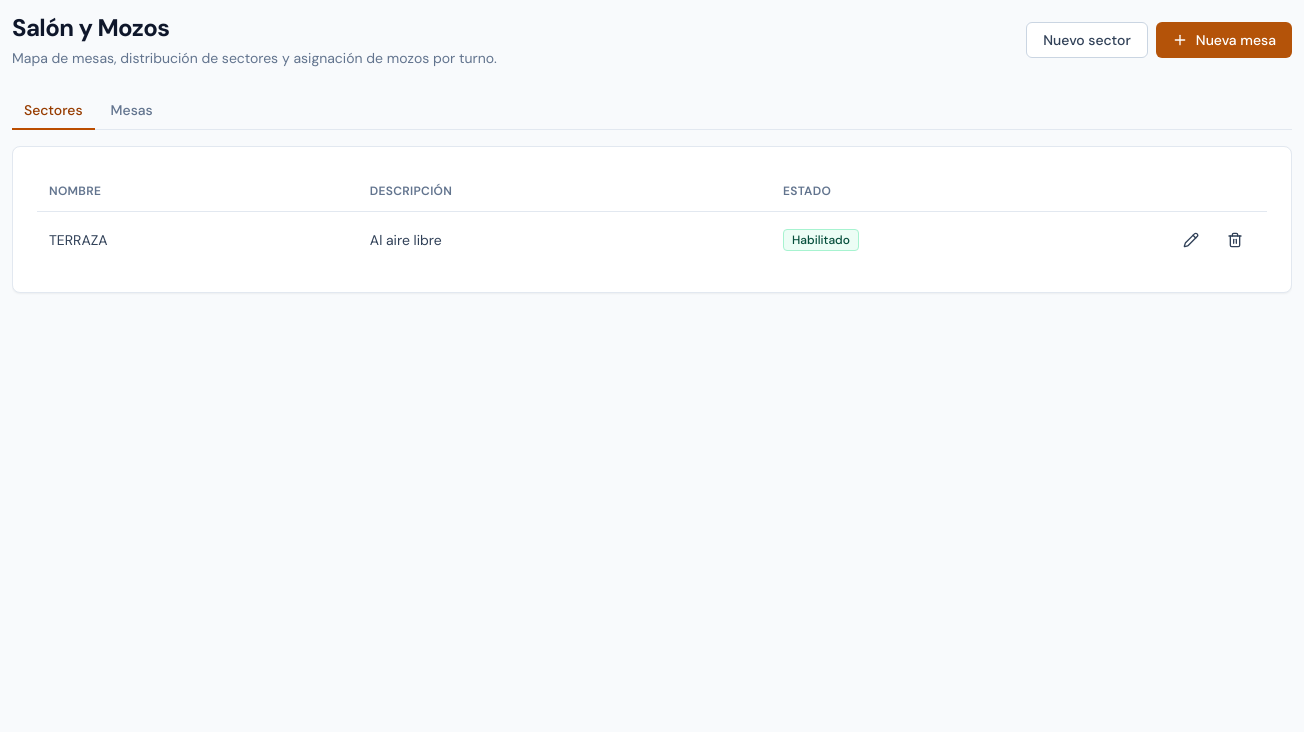
Scenario: SalonPage: baja de sector › elimina el sector con confirmación y recarga el listado (CA 1 de #35)
Click the button named "Eliminar «Terraza»" at (1235, 240), box x1=1215 y1=224 x2=1255 y2=256
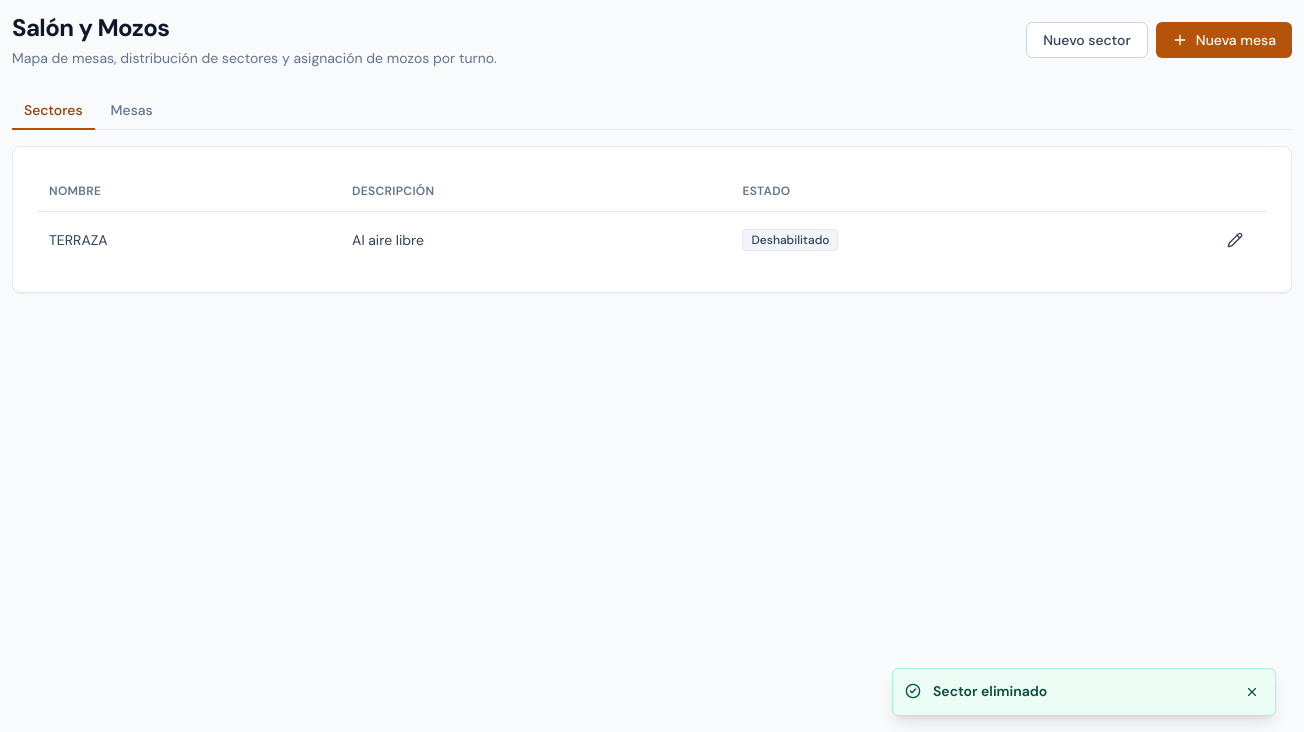
Now the text "Sector eliminado" is shown, box x1=933 y1=682 x2=1047 y2=700
Now the text "Deshabilitado" is shown, box x1=742 y1=228 x2=838 y2=250
